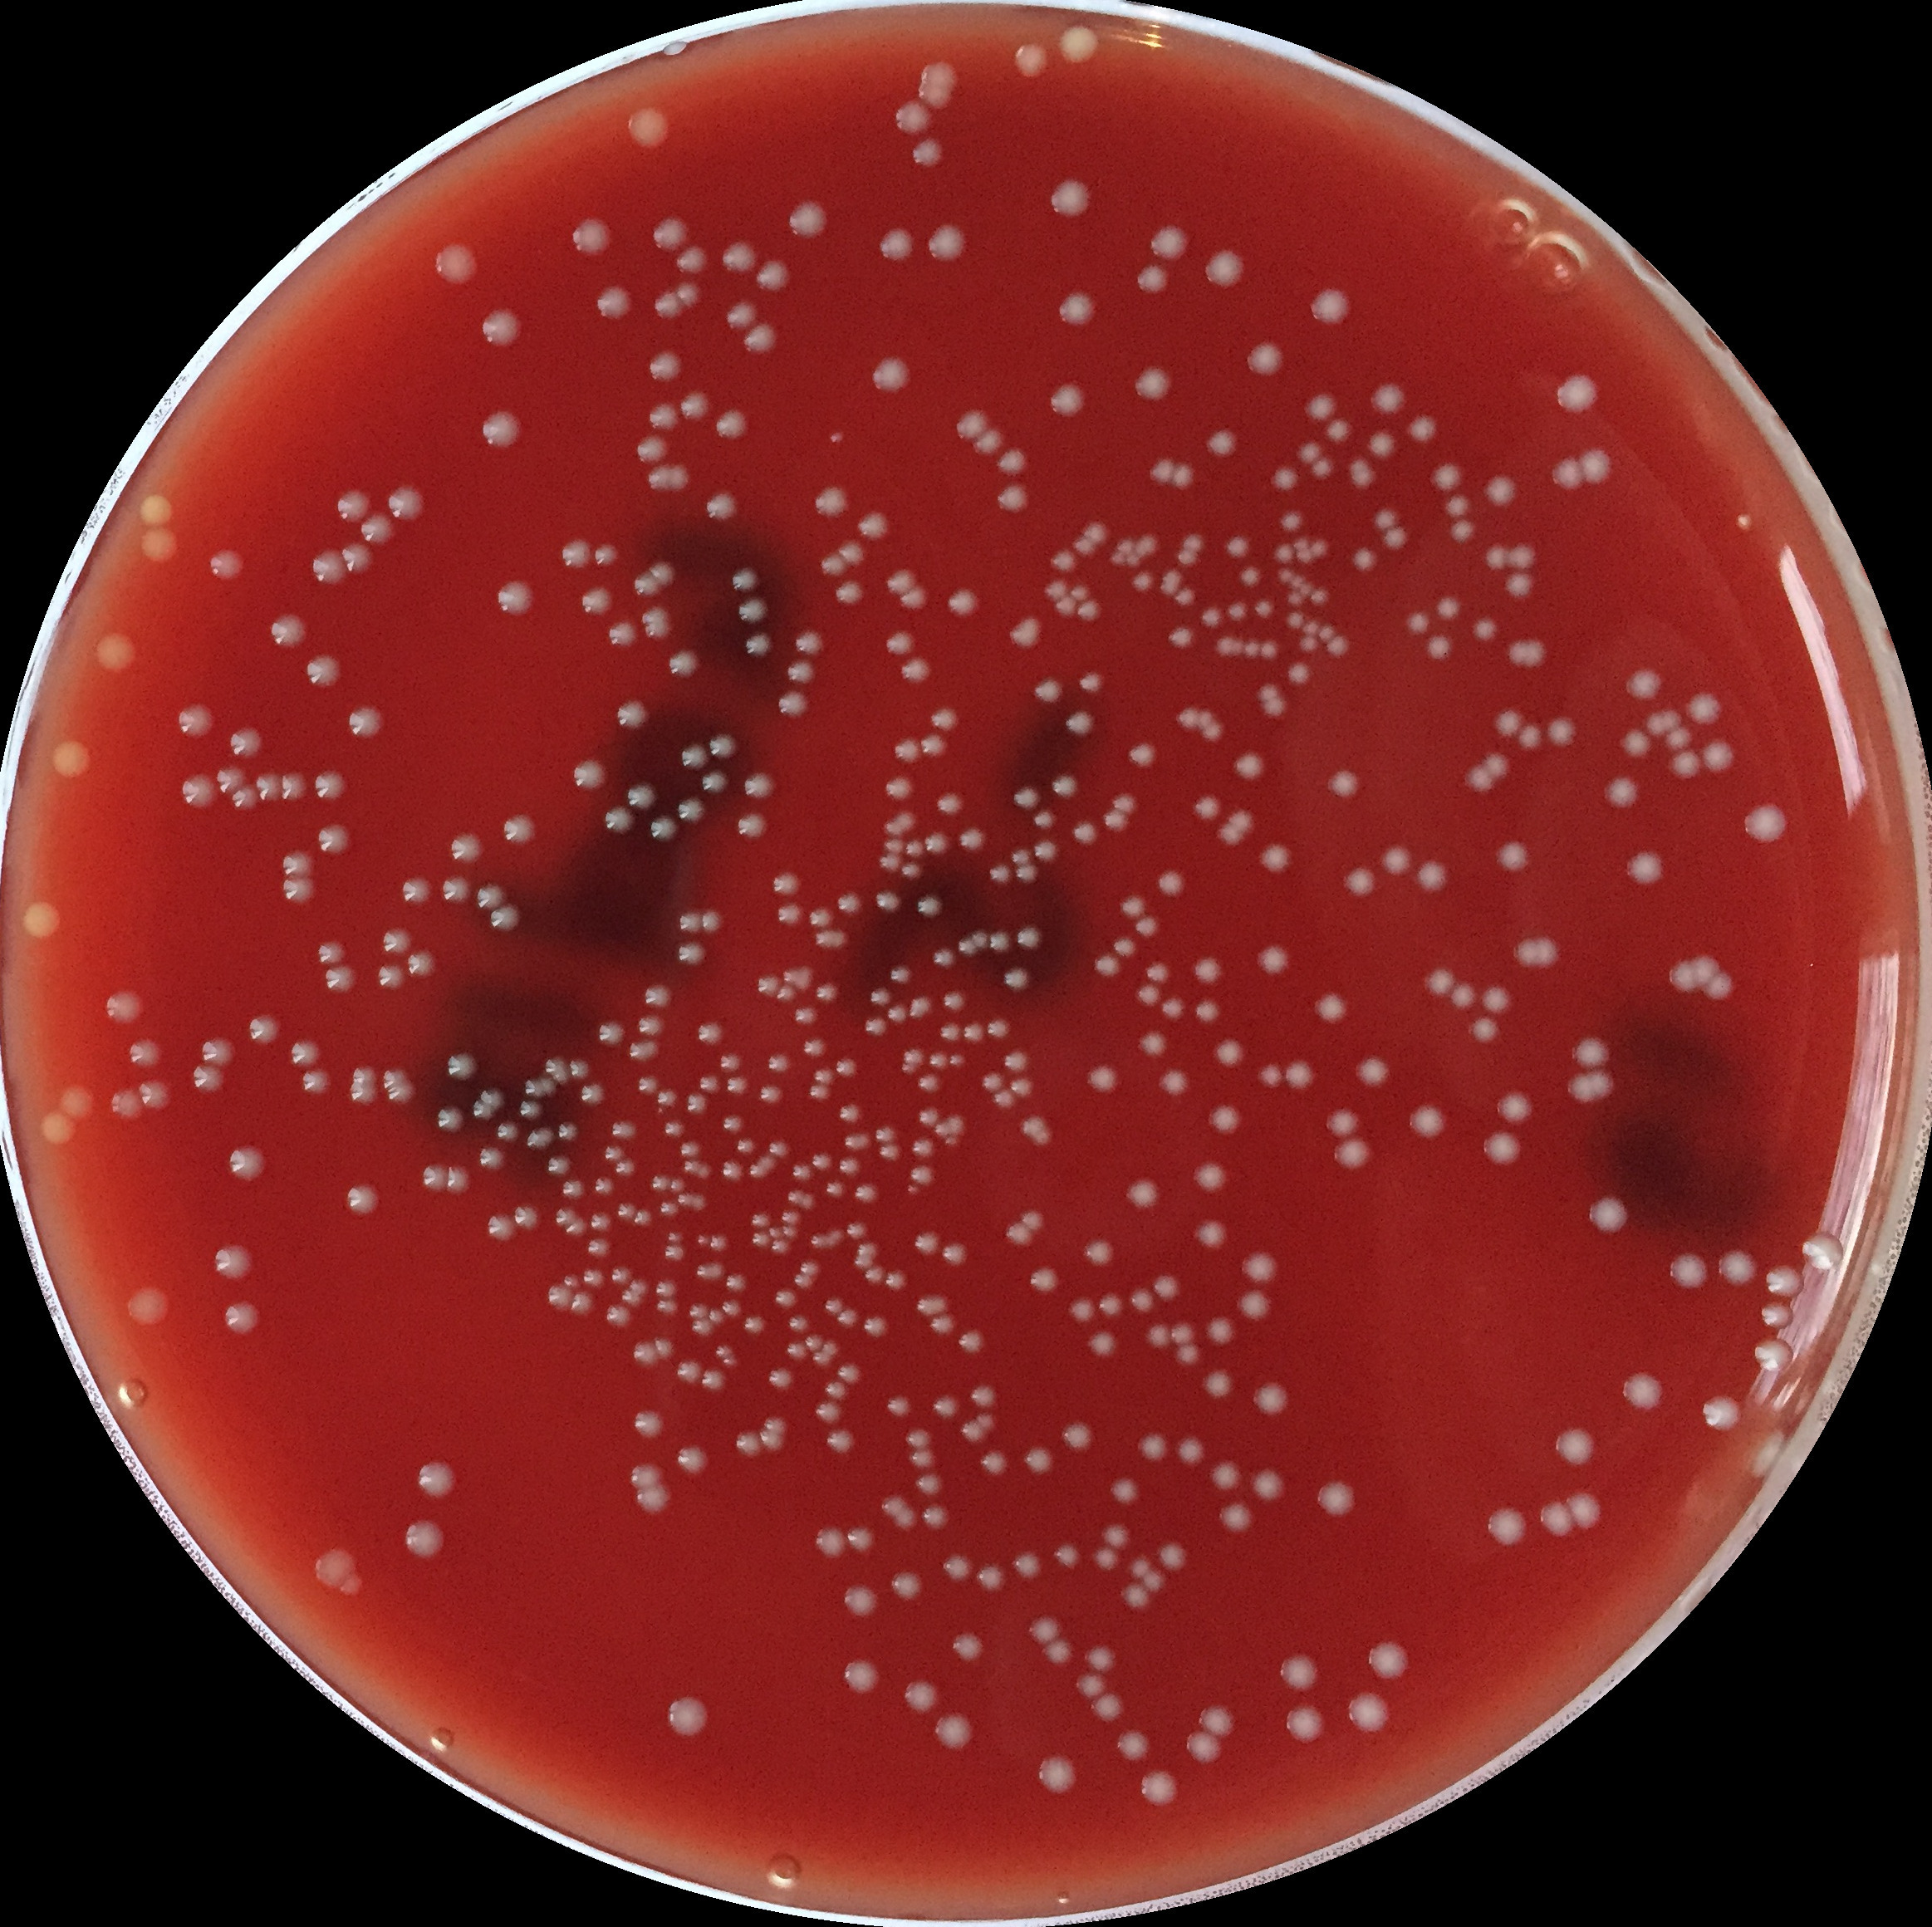sp21: (1034, 1745, 1083, 1798), (1796, 1228, 1849, 1276), (928, 1710, 986, 1752), (1553, 369, 1602, 416), (1344, 1689, 1392, 1738), (1143, 219, 1194, 265), (1306, 284, 1359, 328), (1741, 799, 1791, 845), (623, 106, 674, 150), (1311, 1479, 1364, 1521), (648, 214, 695, 259), (1620, 1366, 1666, 1413), (1484, 1503, 1531, 1549), (1184, 1212, 1233, 1256), (663, 1696, 713, 1740), (429, 244, 480, 286), (1549, 1422, 1595, 1468), (1050, 173, 1094, 221), (1366, 1638, 1413, 1682), (1136, 1766, 1184, 1811), (838, 1653, 882, 1701), (124, 1285, 171, 1329), (415, 1458, 462, 1502), (90, 630, 138, 674), (1697, 736, 1743, 780), (1584, 1189, 1630, 1233), (1200, 245, 1247, 288), (1667, 1249, 1715, 1292), (1715, 1246, 1763, 1288), (1281, 1701, 1329, 1743), (923, 221, 967, 265), (1242, 335, 1286, 379), (1507, 632, 1553, 674), (1699, 1391, 1741, 1436), (1563, 1489, 1606, 1535), (570, 214, 616, 256), (404, 1516, 446, 1562), (1621, 664, 1669, 704), (1330, 1135, 1378, 1175), (478, 305, 526, 346), (1134, 362, 1177, 406), (386, 482, 431, 524), (312, 1546, 355, 1590), (48, 738, 92, 780), (175, 697, 217, 741), (787, 198, 833, 238), (1752, 1334, 1798, 1375), (868, 355, 914, 395), (1247, 1380, 1295, 1419), (1276, 1652, 1323, 1691), (478, 411, 526, 450), (1251, 939, 1293, 981), (1482, 1128, 1524, 1170), (139, 524, 182, 566), (1057, 23, 1101, 64), (1182, 1724, 1223, 1768), (1187, 1158, 1232, 1198), (226, 1142, 270, 1182), (1057, 286, 1099, 326), (1046, 379, 1089, 420), (1576, 445, 1616, 487), (1539, 1498, 1579, 1541), (898, 1676, 940, 1717), (180, 769, 222, 810), (265, 611, 309, 649), (18, 898, 62, 937), (104, 986, 148, 1025), (1232, 1288, 1277, 1325), (1623, 847, 1664, 888), (1120, 1175, 1161, 1216), (840, 1579, 880, 1620), (309, 549, 349, 589), (222, 1297, 263, 1338), (877, 224, 916, 266), (1367, 379, 1410, 418), (1413, 856, 1452, 898), (494, 577, 536, 616), (891, 99, 935, 136), (644, 348, 688, 385), (1053, 1421, 1099, 1456), (1009, 41, 1050, 79), (1323, 766, 1364, 805), (1279, 1057, 1320, 1096), (1352, 1052, 1392, 1091), (1406, 1103, 1447, 1142), (1249, 1466, 1290, 1505), (1004, 614, 1045, 653), (213, 1244, 254, 1283), (1570, 1032, 1613, 1069), (1209, 1034, 1251, 1071), (1764, 1263, 1807, 1301), (947, 1627, 990, 1664), (810, 1523, 852, 1560), (593, 284, 635, 321), (1023, 1613, 1067, 1648), (753, 256, 792, 295), (1311, 988, 1350, 1027), (1322, 1105, 1360, 1143), (1494, 1087, 1533, 1126), (1200, 1703, 1239, 1742), (1480, 471, 1521, 508), (1547, 454, 1588, 491), (1683, 690, 1724, 727), (1419, 965, 1459, 1002), (1198, 1364, 1239, 1401), (1073, 1669, 1113, 1706), (711, 406, 752, 443), (56, 1083, 97, 1121), (1216, 1500, 1258, 1535), (1112, 1728, 1154, 1763), (738, 323, 780, 358), (1237, 1248, 1281, 1281), (1113, 1581, 1157, 1615), (909, 134, 947, 171), (1304, 386, 1341, 425), (1378, 842, 1415, 881), (1256, 840, 1295, 877), (1083, 1061, 1122, 1098), (854, 508, 893, 545), (303, 651, 342, 688), (127, 1036, 166, 1073), (1203, 1101, 1244, 1136), (448, 829, 489, 865), (344, 706, 385, 741), (1078, 1235, 1120, 1269), (356, 512, 399, 545), (917, 56, 962, 88), (630, 1486, 674, 1518), (656, 37, 702, 67), (722, 238, 759, 275), (1493, 838, 1530, 875), (602, 801, 639, 838), (1134, 261, 1173, 296), (1228, 746, 1267, 782), (1542, 713, 1581, 748), (1090, 1691, 1129, 1726), (953, 408, 992, 443), (333, 489, 372, 524), (639, 605, 674, 644), (499, 812, 538, 847), (39, 1108, 78, 1143), (342, 1184, 381, 1219), (485, 1209, 520, 1248), (999, 1219, 1039, 1253), (886, 1569, 926, 1602), (810, 485, 850, 519), (314, 822, 355, 856), (136, 492, 176, 526), (1094, 1519, 1136, 1551), (1027, 674, 1069, 706), (672, 242, 709, 277), (1501, 568, 1537, 605), (1341, 865, 1376, 902), (1466, 1013, 1503, 1048), (1759, 1297, 1796, 1332), (1152, 1539, 1187, 1576), (916, 1498, 953, 1533), (339, 540, 376, 575), (558, 536, 593, 574), (616, 697, 653, 732), (312, 766, 348, 803), (281, 872, 318, 907), (723, 298, 762, 332), (1427, 457, 1466, 491), (1600, 775, 1639, 808), (1667, 958, 1701, 997), (1105, 1473, 1143, 1507), (1039, 1636, 1078, 1669), (1154, 866, 1193, 900), (648, 812, 686, 845), (401, 946, 439, 979), (206, 549, 245, 582), (277, 847, 318, 879), (1203, 425, 1239, 461), (1191, 955, 1226, 990), (625, 780, 660, 815), (228, 725, 263, 761), (1364, 429, 1401, 462), (1445, 514, 1479, 551), (1530, 934, 1563, 971), (898, 655, 935, 688), (644, 401, 681, 434), (632, 432, 669, 466), (702, 489, 739, 522), (667, 648, 704, 681), (323, 962, 360, 995), (191, 1061, 228, 1094), (916, 81, 955, 113), (1202, 1315, 1240, 1346), (1082, 1643, 1120, 1675), (628, 1461, 667, 1493), (570, 759, 609, 791), (399, 875, 438, 907), (626, 1034, 665, 1066), (443, 1050, 482, 1082), (1025, 1265, 1066, 1295), (1062, 708, 1103, 738), (725, 565, 766, 595), (1666, 748, 1701, 782), (1586, 1066, 1620, 1101), (1136, 1429, 1170, 1465), (678, 1443, 711, 1479), (651, 289, 686, 323), (108, 1087, 141, 1122), (1616, 729, 1653, 761), (1703, 969, 1734, 1006), (1083, 1329, 1120, 1361), (1207, 1459, 1244, 1491), (972, 1563, 1009, 1595), (632, 1408, 669, 1440), (1156, 1064, 1193, 1096), (944, 586, 981, 618), (882, 566, 919, 598), (672, 939, 709, 971), (245, 1013, 282, 1045), (199, 1036, 236, 1068), (1689, 953, 1719, 992), (810, 923, 849, 953), (970, 427, 1009, 457), (773, 690, 813, 718), (993, 484, 1034, 512), (1470, 612, 1503, 646), (939, 1551, 972, 1585), (842, 1523, 875, 1556), (678, 388, 711, 422), (138, 1076, 171, 1110), (672, 275, 704, 311), (1344, 455, 1376, 491), (1463, 762, 1498, 794), (1479, 981, 1510, 1016), (1447, 978, 1479, 1013), (928, 1391, 963, 1422), (1124, 739, 1159, 771), (732, 812, 768, 844), (1406, 411, 1443, 441), (1424, 626, 1454, 664), (1113, 891, 1150, 921), (926, 702, 963, 732), (579, 586, 616, 616), (475, 881, 512, 911), (910, 1472, 949, 1500), (912, 1290, 951, 1318), (1505, 538, 1537, 572), (1166, 459, 1198, 492), (1191, 995, 1224, 1027), (1563, 1071, 1595, 1105), (1149, 1272, 1182, 1304), (1011, 1551, 1045, 1583), (979, 1445, 1011, 1479), (628, 1338, 660, 1371), (1136, 1029, 1168, 1062), (997, 443, 1029, 476), (632, 568, 665, 600), (678, 794, 709, 828), (441, 872, 473, 905), (1164, 621, 1200, 651), (1480, 752, 1516, 782), (1224, 805, 1260, 835), (1020, 1445, 1055, 1475), (824, 1426, 859, 1456), (706, 732, 741, 762), (543, 1053, 573, 1089), (434, 1105, 469, 1135), (1510, 935, 1539, 972), (910, 891, 947, 919), (1493, 706, 1524, 738), (1126, 1285, 1157, 1316), (755, 1426, 787, 1458), (1048, 771, 1080, 803), (738, 595, 769, 626), (607, 618, 639, 649), (228, 782, 259, 814), (289, 1038, 321, 1069), (1270, 462, 1300, 496), (1046, 547, 1080, 577), (1173, 1435, 1207, 1465), (1087, 1542, 1120, 1572), (745, 769, 775, 803), (213, 764, 247, 794), (489, 904, 522, 934), (381, 925, 415, 955), (420, 1159, 450, 1193), (445, 1161, 475, 1195), (912, 1228, 946, 1258), (1064, 1295, 1099, 1323), (1094, 1290, 1129, 1318), (889, 738, 925, 766), (298, 1068, 333, 1096), (778, 963, 815, 990), (1323, 416, 1355, 446), (1369, 505, 1399, 536), (1284, 658, 1316, 688), (1514, 722, 1546, 752), (1143, 1322, 1173, 1353), (1168, 1338, 1200, 1368), (732, 1426, 762, 1458), (676, 1357, 706, 1389), (1090, 953, 1122, 983), (1069, 819, 1101, 849), (771, 870, 803, 900), (792, 628, 824, 658), (785, 658, 817, 688), (589, 538, 619, 570), (695, 1016, 725, 1048), (891, 1502, 919, 1535), (988, 1085, 1022, 1113), (916, 732, 949, 761), (896, 584, 930, 612), (595, 1020, 628, 1048), (348, 1080, 381, 1108), (884, 628, 919, 655), (831, 581, 866, 607), (900, 1426, 937, 1451), (1380, 522, 1410, 552), (1147, 455, 1177, 485), (1127, 565, 1157, 595), (956, 1323, 986, 1353), (1159, 992, 1189, 1022), (1015, 921, 1045, 951), (999, 1046, 1029, 1076), (1075, 595, 1105, 625), (252, 771, 282, 801), (642, 979, 672, 1009), (637, 1011, 667, 1041), (1080, 517, 1112, 545), (1156, 566, 1184, 598), (1212, 824, 1244, 852), (1189, 794, 1221, 822), (1254, 1059, 1283, 1091), (603, 1302, 635, 1331), (545, 1281, 573, 1313), (1143, 958, 1175, 986), (905, 993, 937, 1022), (1009, 784, 1041, 812), (955, 828, 986, 856), (884, 775, 916, 803), (1076, 669, 1108, 697), (699, 768, 730, 796), (277, 771, 309, 799), (635, 1069, 663, 1101), (476, 1145, 508, 1173), (316, 939, 348, 967), (374, 962, 406, 990), (1662, 725, 1696, 752), (1052, 1544, 1085, 1571), (1000, 965, 1034, 992), (870, 889, 903, 916), (1443, 491, 1471, 521), (1484, 540, 1512, 570), (1433, 593, 1463, 621), (1258, 692, 1288, 720), (1164, 1318, 1194, 1346), (1030, 836, 1060, 865), (649, 556, 678, 586), (679, 743, 709, 771), (515, 1094, 545, 1122), (512, 1203, 540, 1233), (337, 1572, 367, 1601), (1657, 706, 1689, 732), (877, 1491, 909, 1518), (965, 1383, 997, 1410), (813, 1399, 845, 1426), (835, 1361, 866, 1387), (1108, 935, 1140, 962), (937, 986, 969, 1013), (909, 1135, 940, 1161), (835, 1101, 866, 1128), (933, 791, 965, 817), (773, 902, 805, 928), (835, 538, 866, 565), (743, 632, 775, 658), (644, 462, 670, 494), (524, 1126, 556, 1152), (1099, 808, 1133, 833), (817, 552, 850, 577), (381, 1083, 416, 1106), (1403, 609, 1431, 637), (923, 829, 951, 858), (683, 1089, 711, 1117), (1293, 438, 1323, 464), (1309, 455, 1339, 482), (1352, 544, 1378, 574), (1071, 535, 1101, 561), (1223, 596, 1253, 623), (1175, 706, 1202, 736), (1138, 1567, 1168, 1593), (930, 1309, 960, 1336), (568, 1292, 598, 1318), (985, 928, 1015, 955), (806, 904, 836, 930), (1196, 605, 1228, 630), (582, 1237, 614, 1262), (805, 1080, 836, 1105), (835, 891, 866, 916), (914, 1071, 947, 1094), (1277, 506, 1306, 533), (1223, 533, 1251, 559), (1235, 563, 1263, 589), (1170, 582, 1198, 609), (1323, 632, 1350, 660), (1202, 718, 1228, 746), (1016, 1207, 1045, 1233), (884, 1392, 912, 1419), (960, 1421, 988, 1447), (699, 1366, 727, 1392), (942, 1242, 969, 1271), (958, 1022, 986, 1048), (842, 1131, 877, 1152), (810, 1064, 838, 1091), (1112, 791, 1140, 817), (1039, 577, 1067, 604), (678, 909, 706, 935), (579, 1082, 607, 1108), (586, 1207, 614, 1233), (718, 1158, 746, 1184), (1249, 596, 1279, 621), (880, 1267, 910, 1292), (577, 1267, 607, 1292), (955, 935, 985, 960), (1018, 1110, 1048, 1135), (907, 1163, 937, 1188), (813, 981, 843, 1006), (753, 974, 783, 999), (1029, 808, 1059, 833), (986, 861, 1016, 886), (543, 1152, 573, 1177), (681, 1156, 711, 1181), (789, 1159, 819, 1184), (928, 948, 960, 971), (977, 1071, 1009, 1094), (755, 1083, 787, 1106), (1127, 1553, 1154, 1579), (937, 1020, 963, 1046), (985, 1016, 1011, 1043), (655, 1083, 681, 1110), (632, 1205, 658, 1232), (1643, 709, 1667, 738), (909, 1445, 937, 1470), (861, 1315, 889, 1339), (861, 1263, 889, 1288), (771, 1286, 799, 1311), (866, 985, 895, 1009), (877, 851, 905, 875), (697, 909, 725, 934), (695, 1071, 723, 1096), (887, 963, 917, 986), (875, 1142, 905, 1165), (1013, 863, 1043, 886), (667, 464, 690, 494), (762, 1413, 794, 1435), (693, 1260, 725, 1281), (1180, 529, 1207, 554), (1733, 510, 1757, 536), (972, 1406, 997, 1433), (768, 1366, 794, 1391), (649, 1334, 674, 1361), (810, 1348, 836, 1373), (820, 1293, 847, 1318), (609, 1263, 635, 1288), (882, 1002, 909, 1027), (926, 1048, 951, 1075), (1030, 1126, 1057, 1151), (833, 1055, 859, 1080), (1053, 596, 1080, 621), (725, 1073, 750, 1099), (568, 1055, 593, 1082), (480, 1085, 506, 1110), (469, 1099, 496, 1124), (496, 1121, 522, 1145), (554, 1119, 580, 1143), (552, 1203, 577, 1230), (662, 1115, 686, 1142), (732, 1133, 757, 1159), (748, 1228, 773, 1255), (776, 1205, 803, 1230), (1173, 547, 1202, 570), (653, 1276, 681, 1299), (1133, 983, 1161, 1006), (1133, 916, 1161, 939), (873, 1124, 902, 1147), (559, 1177, 588, 1200), (610, 1119, 639, 1142), (679, 1138, 708, 1161), (852, 1181, 880, 1203), (773, 985, 803, 1006), (381, 1068, 411, 1089), (1283, 609, 1307, 634), (824, 1378, 849, 1403), (836, 1154, 861, 1179), (824, 1179, 849, 1203), (1253, 679, 1279, 702), (1193, 704, 1216, 731), (718, 1048, 741, 1075), (566, 1216, 589, 1242), (616, 1196, 639, 1223), (720, 1112, 746, 1135), (806, 1149, 833, 1172), (766, 1053, 794, 1075), (790, 1004, 819, 1025), (891, 810, 919, 831), (349, 1064, 378, 1085), (653, 1297, 683, 1316), (1306, 536, 1330, 559), (801, 1331, 826, 1353), (835, 1306, 859, 1329), (662, 1241, 686, 1263), (967, 926, 992, 949), (522, 1076, 547, 1099), (591, 1173, 616, 1196), (755, 1152, 780, 1175), (768, 1135, 792, 1158), (748, 1207, 773, 1230), (824, 1225, 847, 1249), (1295, 634, 1322, 655), (1214, 632, 1235, 658), (782, 1339, 808, 1361), (723, 1272, 750, 1293), (619, 1286, 646, 1308), (706, 1233, 732, 1255), (861, 1016, 887, 1038), (1007, 1076, 1034, 1098), (799, 1038, 826, 1059), (1009, 845, 1036, 866), (612, 1156, 639, 1177), (796, 1256, 824, 1276), (648, 1172, 670, 1195), (1112, 533, 1136, 554), (686, 1301, 711, 1322), (785, 1313, 810, 1334), (857, 1239, 882, 1260), (626, 1276, 651, 1297), (561, 1272, 586, 1293), (944, 1052, 969, 1073), (916, 1105, 940, 1126), (900, 836, 925, 858), (900, 859, 925, 881), (602, 1142, 626, 1163), (845, 1219, 870, 1241), (1134, 533, 1161, 552), (1258, 637, 1277, 664), (741, 1315, 768, 1334), (1274, 542, 1297, 563), (852, 1251, 875, 1272), (794, 1269, 817, 1290), (658, 1198, 681, 1219), (780, 1219, 803, 1241), (783, 1186, 806, 1207), (798, 1193, 819, 1216), (688, 1318, 713, 1338), (879, 819, 903, 838), (1246, 637, 1263, 664), (711, 1343, 738, 1361), (900, 1046, 926, 1064), (718, 1299, 741, 1318), (946, 1115, 969, 1135), (1066, 582, 1089, 602), (690, 1189, 709, 1212), (771, 1233, 790, 1256), (766, 1221, 789, 1241), (708, 1304, 725, 1329), (1281, 588, 1300, 609), (1297, 581, 1318, 600), (1316, 623, 1337, 642), (819, 1336, 840, 1355), (944, 1131, 963, 1152), (665, 1226, 686, 1246), (1230, 634, 1247, 656), (1290, 533, 1309, 552), (676, 1189, 695, 1209), (748, 1161, 768, 1181), (1108, 551, 1129, 568), (1272, 565, 1293, 582), (1286, 572, 1307, 589), (1300, 621, 1322, 639), (882, 836, 905, 852), (1293, 549, 1313, 566), (1311, 589, 1330, 607), (932, 1119, 951, 1136), (667, 1173, 685, 1193), (808, 1232, 826, 1251), (720, 1353, 741, 1369), (898, 1062, 919, 1078), (826, 429, 849, 443), (695, 1233, 711, 1251), (905, 1182, 923, 1195)
